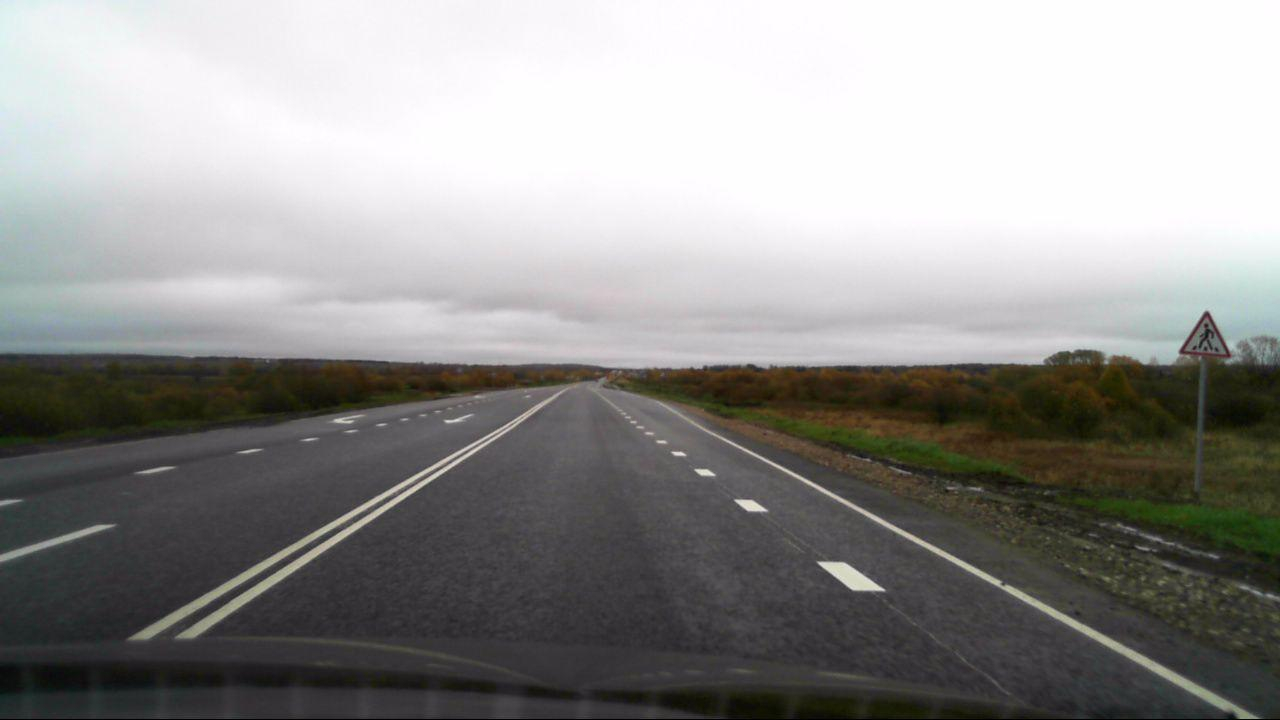1_22: (1181, 311, 1230, 359)
